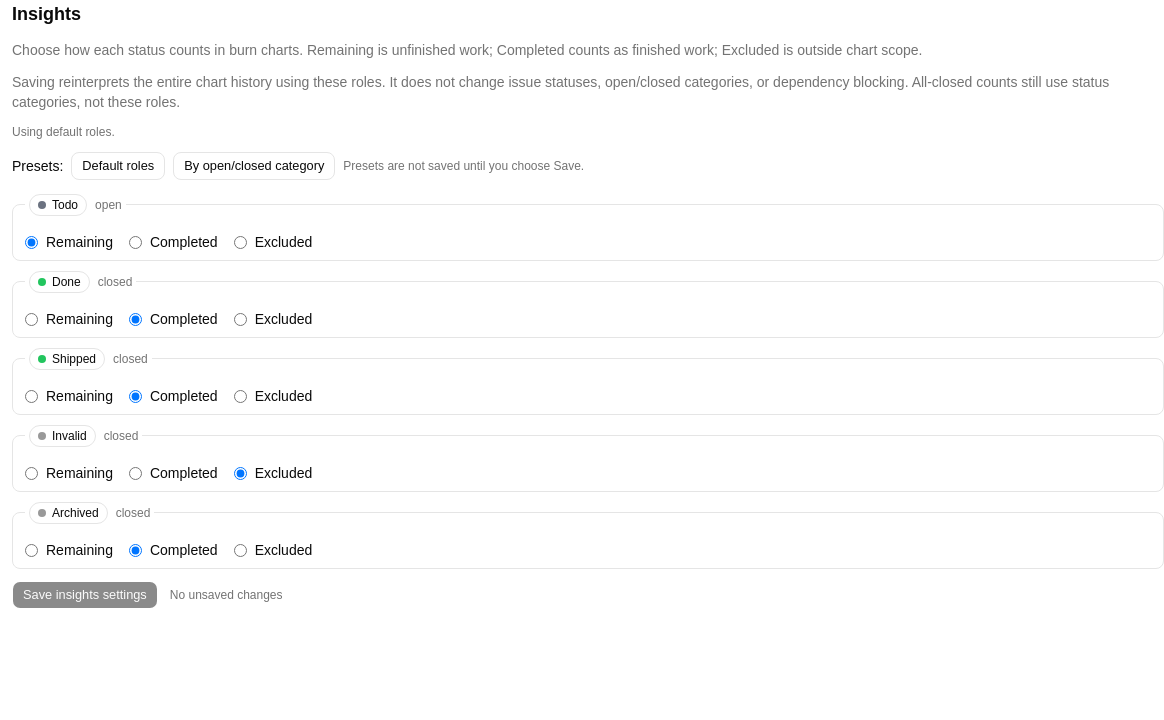
Test case: InsightsSettings › saves the complete status set and opaque version, then refreshes burn queries
Step 1. Click the radio button labelled "Completed" below "Todo" → (135, 242), box x1=129 y1=236 x2=142 y2=248
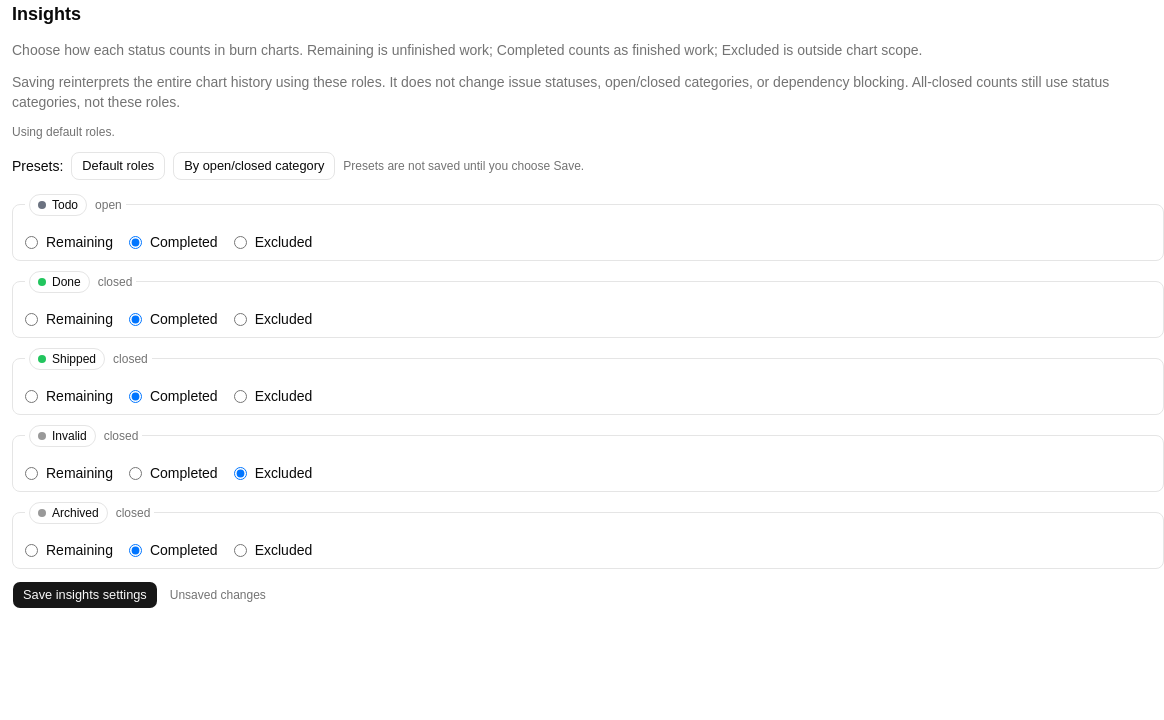
Step 2. Click the button "Save insights settings" → (85, 595), box x1=12 y1=581 x2=158 y2=609
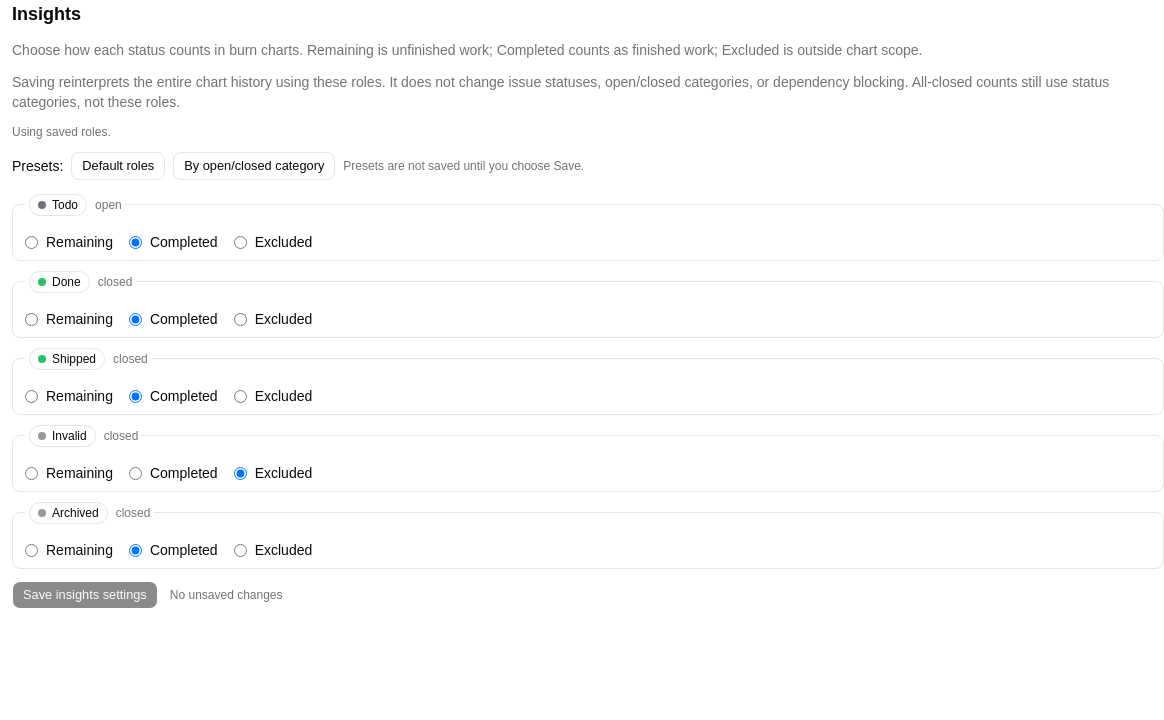
Result: the message reads "No unsaved changes" at x1=170 y1=588 x2=283 y2=602
Result: the text "Using saved roles." is shown at x1=12 y1=125 x2=111 y2=139
Result: the button "Save insights settings" is disabled at x1=12 y1=581 x2=158 y2=609
